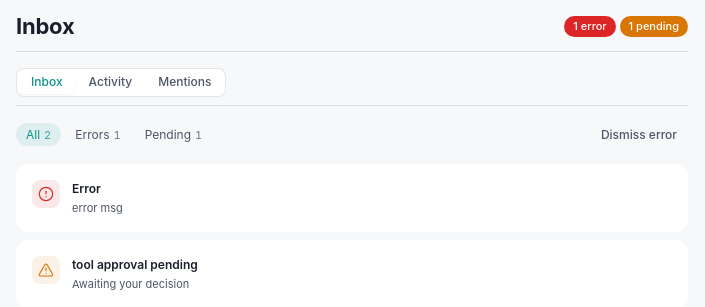
Scenario: NotificationsView › filter buttons switch to Pending only
What coordinates should you click on to do the following:
click the button "Pending 1"
I would click on:
 (173, 135)
Its box is [135,123,212,146].
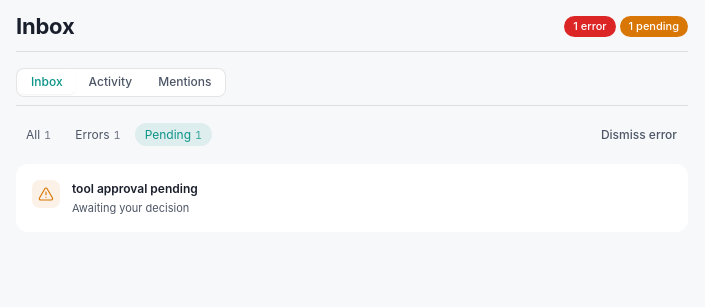
Expected: the text "tool approval pending" is shown, [72,181,198,196]
Result: the text "error msg" is gone
